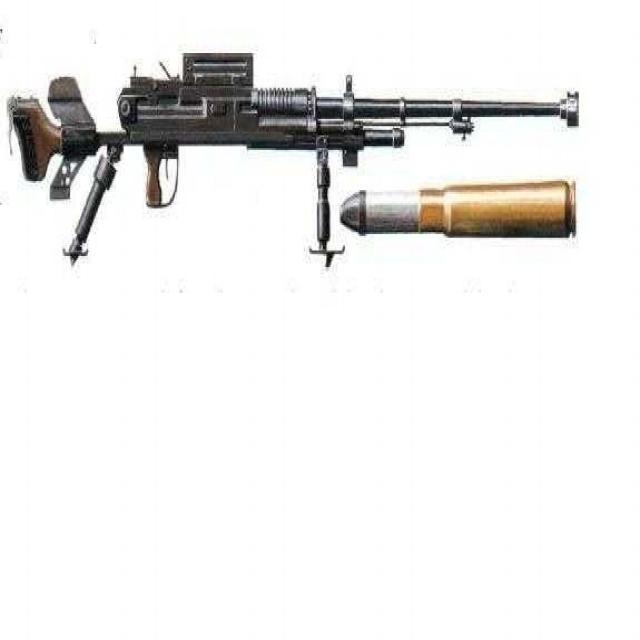weapon: (6, 42, 604, 256)
